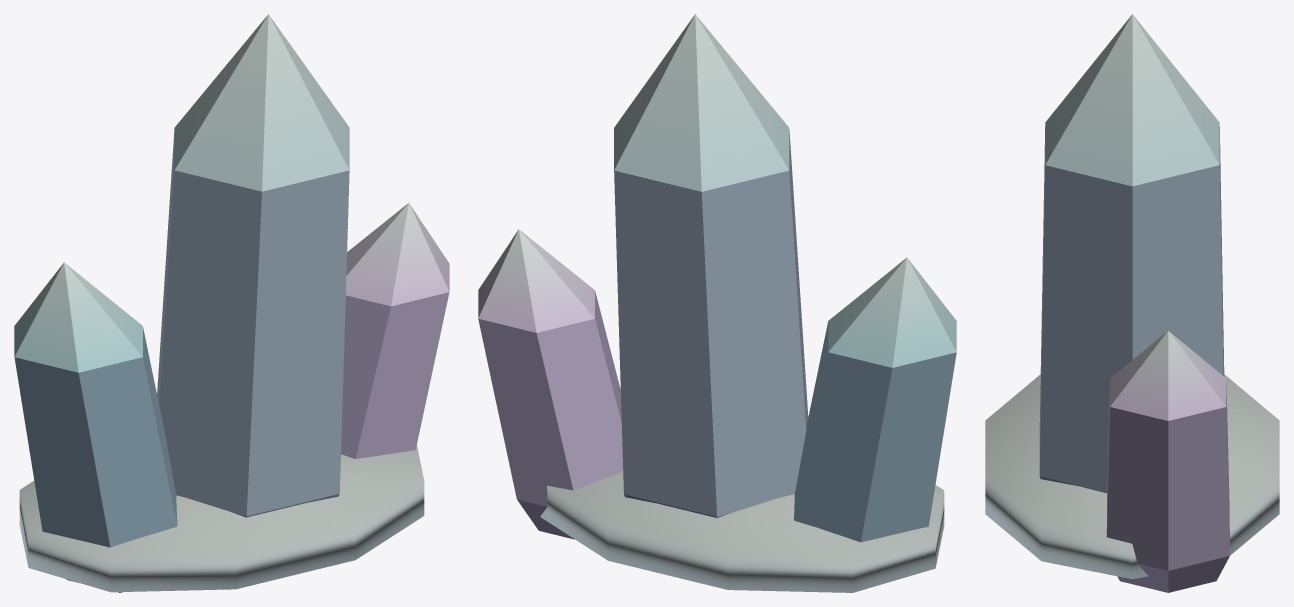
File: Sky_Aurora_Crystal_Cluster.glb
3 renders of one model, left to right at view 1: azimuth 30°, elevation 25°; view 2: azimuth 150°, elevation 25°; view 3: azimuth 270°, elevation 25°, orthographic.
Parts seen in each view (by area): view 1: Sky_Aurora_Crystal_Cluster; view 2: Sky_Aurora_Crystal_Cluster; view 3: Sky_Aurora_Crystal_Cluster.
Part boxes in pixels (x1,y1,x2,y2): Sky_Aurora_Crystal_Cluster: [14, 14, 449, 592]; Sky_Aurora_Crystal_Cluster: [478, 14, 956, 592]; Sky_Aurora_Crystal_Cluster: [985, 14, 1279, 592].
Size of the model in its own units: 0.7354 by 0.79 by 0.4118.
